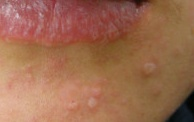SJS-TEN: (0, 0, 156, 46), (52, 67, 119, 122), (139, 57, 161, 78)
